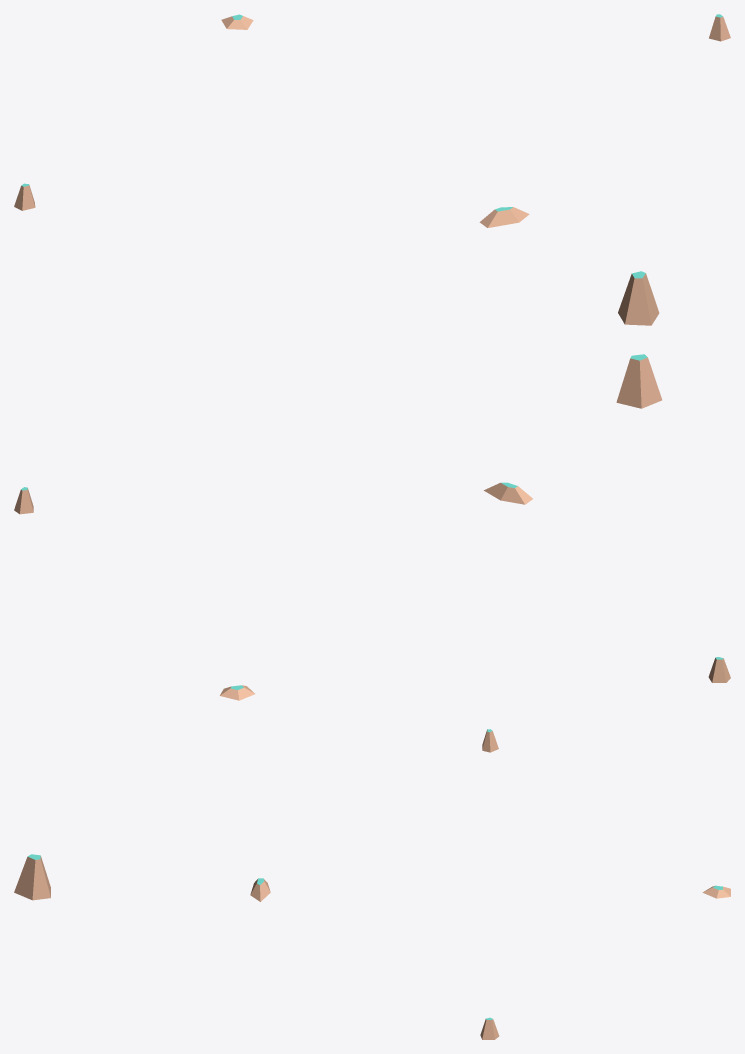
The model's file is snowfield-layout.glb.
3 renders of one model, top to bottom at view 1: azimuth 30°, elevation 25°; view 2: azimuth 150°, elevation 25°; view 3: azimuth 270°, elevation 25°, orthographic. The views are drawn at different scales.
Visible parts, largest first — view 1: goal, turn; view 2: goal, turn; view 3: goal.
Part boxes in pixels (box(x1,y1,x2,y2)): goal: box(618, 271, 659, 325); turn: box(479, 207, 529, 227); goal: box(616, 354, 662, 408); turn: box(484, 482, 532, 504); goal: box(14, 854, 50, 900).
Size of the model in its own units: 3.06 by 0.1721 by 3.14.
